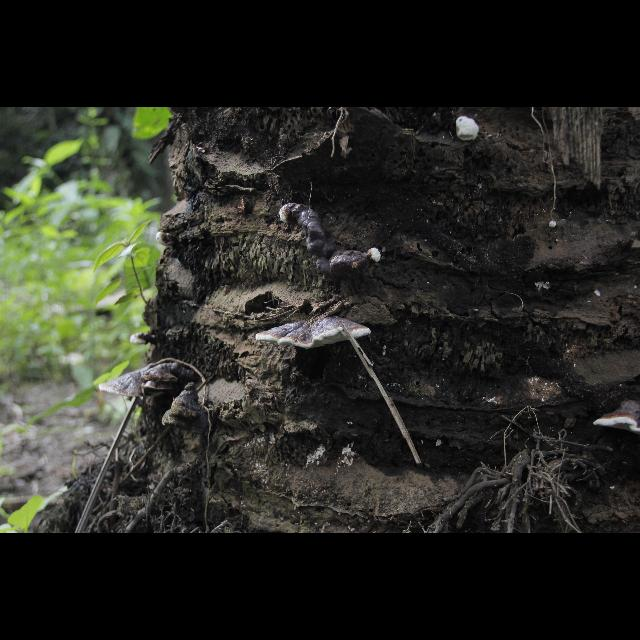ganoderma: (294, 203, 368, 280), (256, 315, 373, 351), (100, 364, 165, 399), (593, 399, 640, 437), (141, 362, 185, 392), (130, 333, 158, 345)
primordium: (455, 117, 481, 143), (157, 232, 178, 249), (280, 202, 295, 224), (368, 248, 383, 265), (550, 221, 559, 230)
